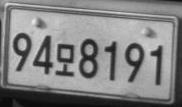1: (147, 44, 169, 86), (101, 40, 123, 81)
4: (31, 34, 54, 74)
8: (77, 37, 99, 79)
9: (123, 41, 145, 82), (11, 31, 32, 72)
모: (54, 42, 75, 76)
